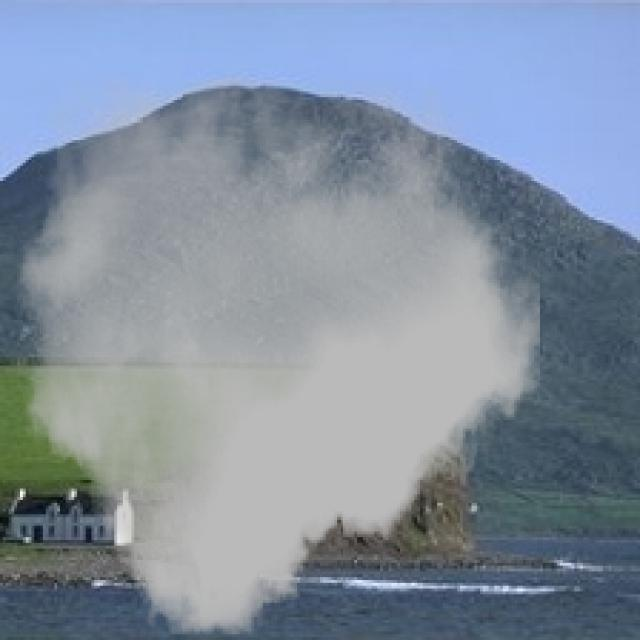smoke: (17, 77, 540, 634)
